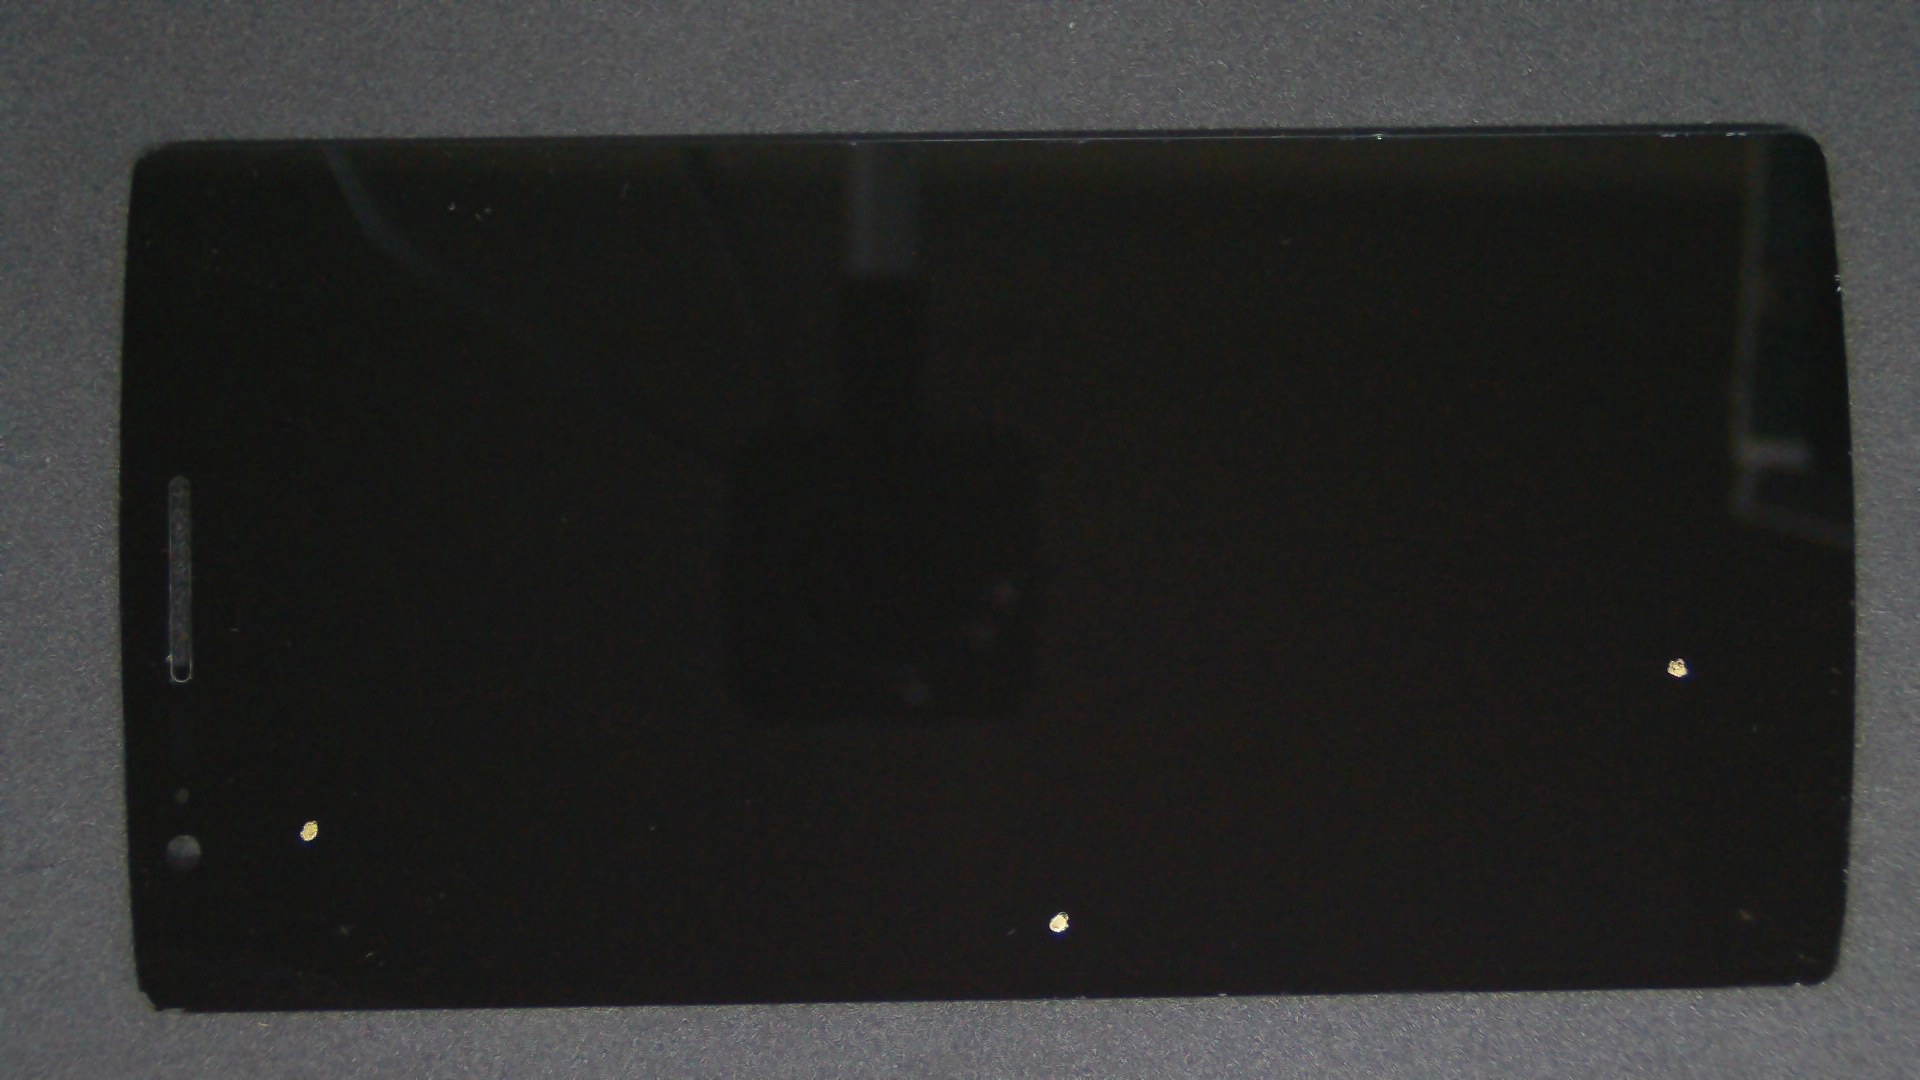oil: (841, 327, 1920, 984), (531, 454, 1590, 1080), (156, 409, 465, 1080)
